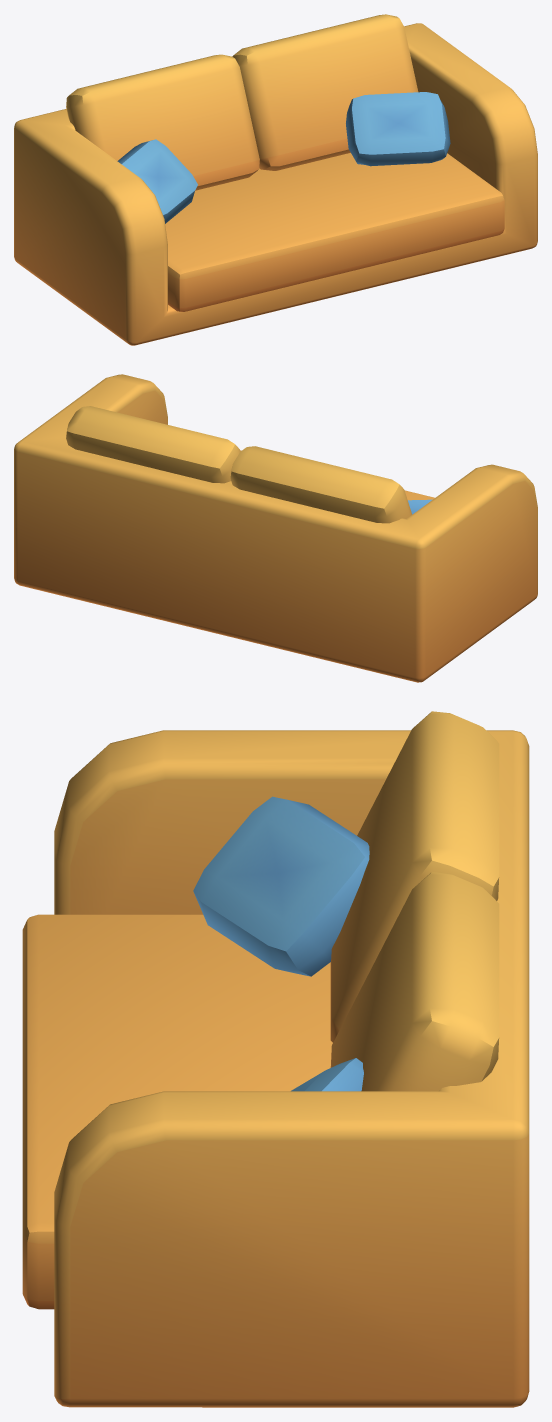
File: kk_couch.glb
3 renders of one model, top to bottom at view 1: azimuth 30°, elevation 25°; view 2: azimuth 150°, elevation 25°; view 3: azimuth 270°, elevation 25°, orthographic. The views are drawn at different scales.
Visible parts, largest first — view 1: couch_pillows; view 2: couch_pillows; view 3: couch_pillows.
Boxes of the visible parts, bbox=[...] form: couch_pillows: bbox=[14, 14, 537, 345]; couch_pillows: bbox=[14, 374, 537, 682]; couch_pillows: bbox=[22, 711, 529, 1407].
Bounding box in the file's own units: 3 × 1.22 × 1.6.
Materials: 1 (1 with a texture image).
